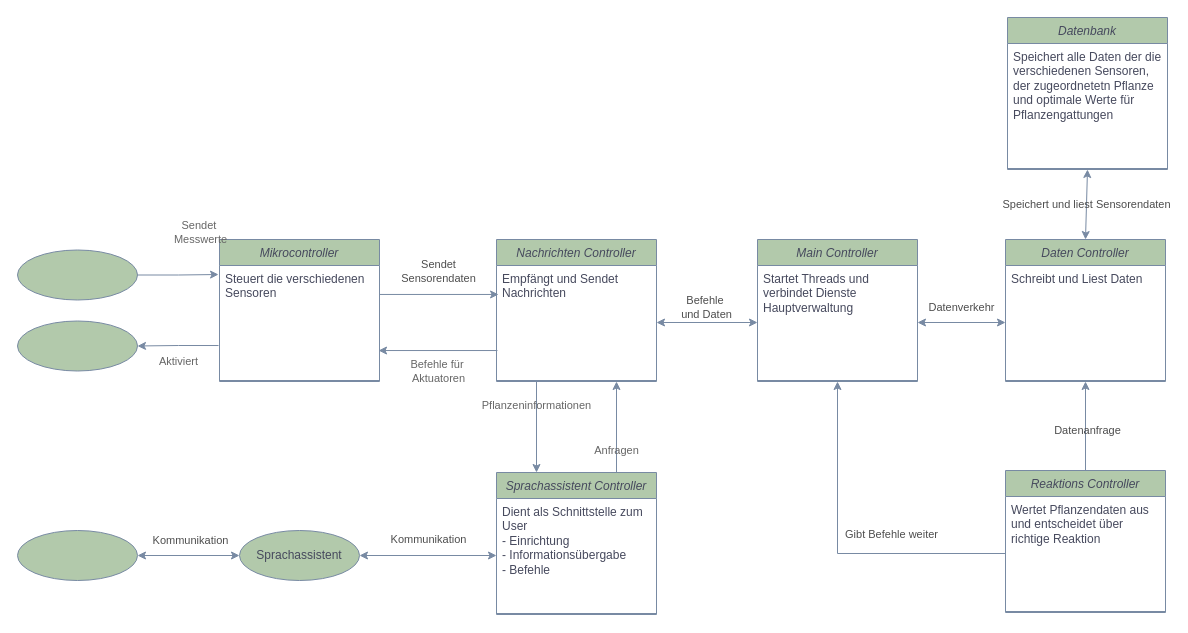
The diagram is 1188 pixels wide and 633 high, and some of its shapes have lost their labels. Here are the shapes that lost their labels. From the top down, the centre of each, then its label:
At [77,274]: "Sensoren".
At [77,345]: "Aktuatoren".
At [77,555]: "User".
